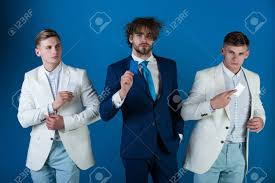person: (199, 24, 266, 119), (19, 20, 91, 101), (114, 19, 177, 86)
